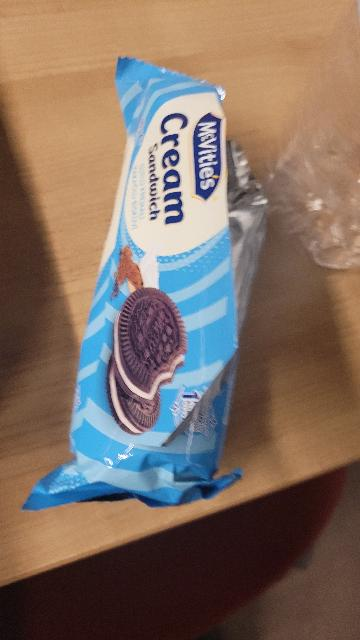Plastik: (19, 56, 264, 520), (260, 40, 360, 280)
